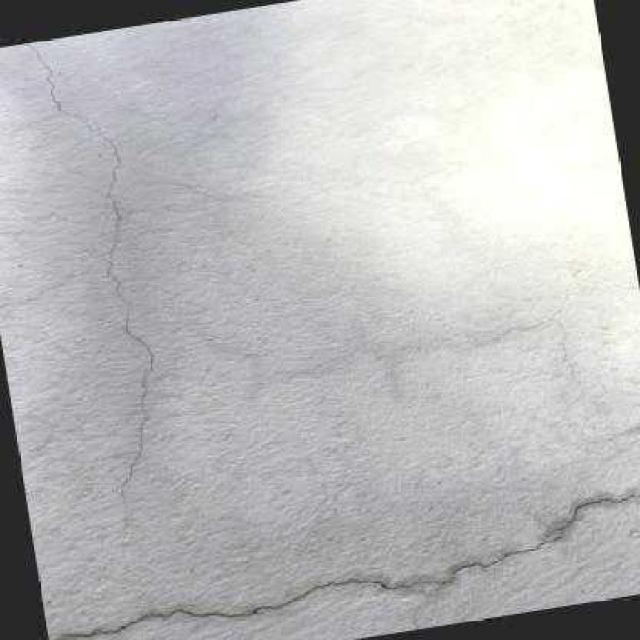D00: (21, 42, 152, 496), (53, 535, 560, 640), (558, 492, 640, 529)
